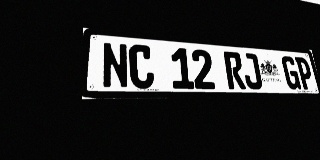1: (170, 47, 195, 89)
2: (191, 49, 215, 89)
C: (128, 44, 155, 89)
G: (281, 56, 302, 89)
J: (241, 53, 263, 89)
N: (102, 42, 129, 89)
P: (295, 57, 315, 90)
R: (223, 51, 246, 89)
